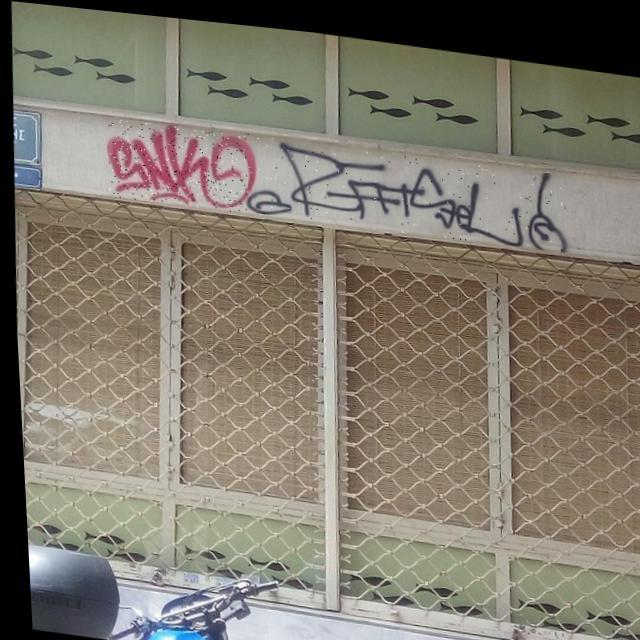-: (242, 126, 570, 244), (104, 115, 259, 211)
